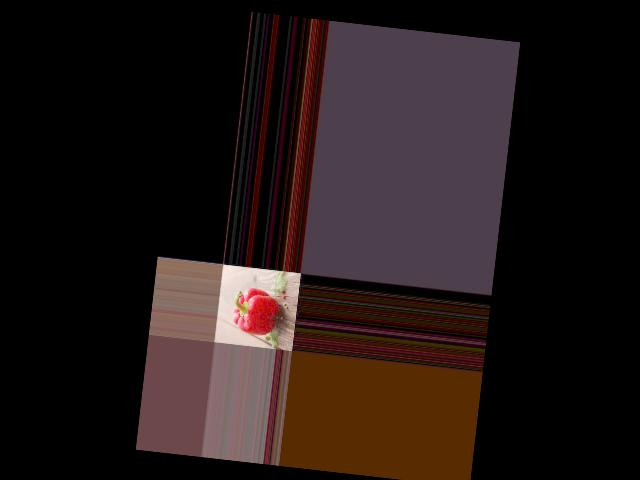bell_pepper: (226, 283, 282, 340)
